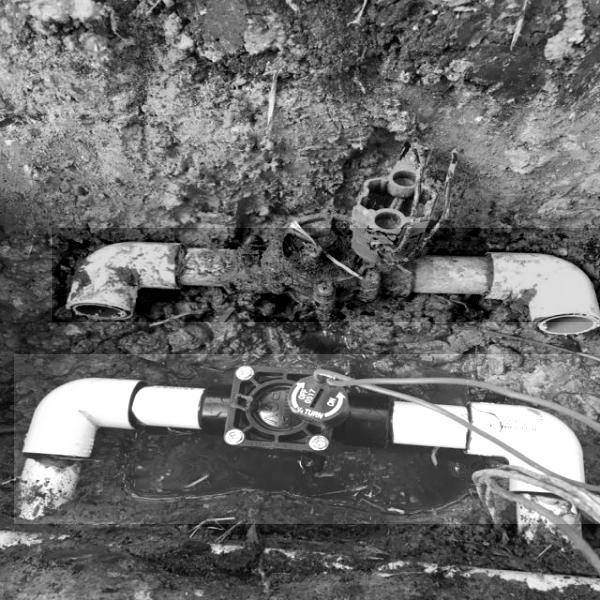no leak: (14, 354, 600, 524), (52, 228, 600, 322)
